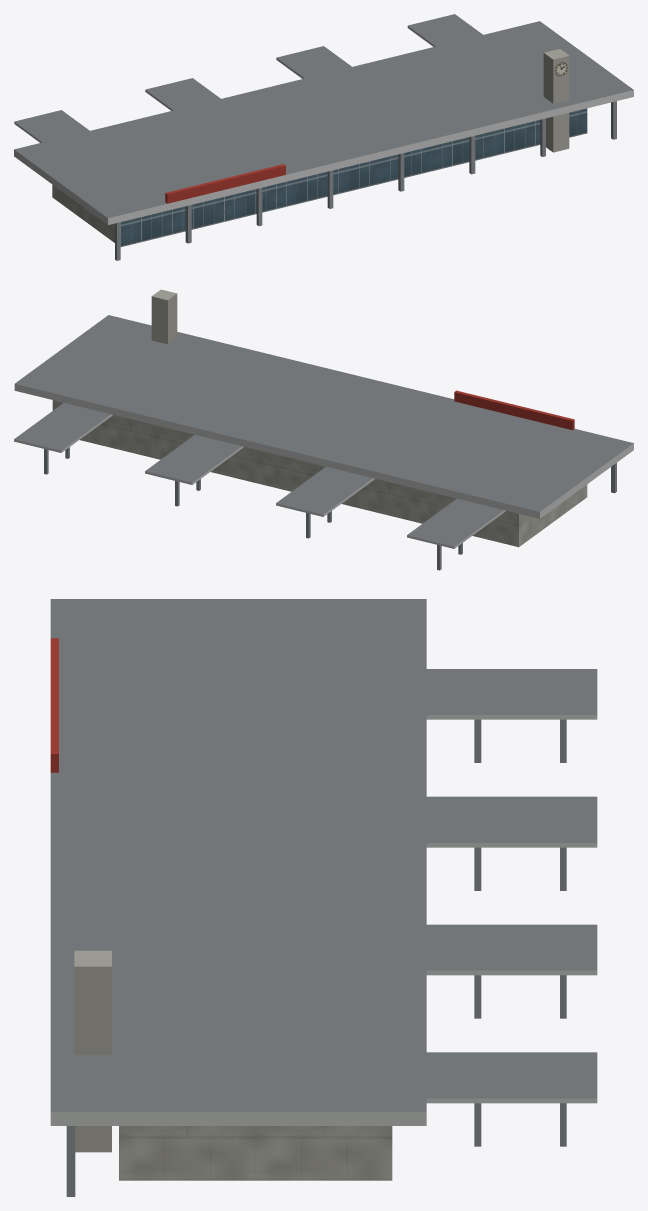
The model's file is caltrain_station.glb.
The picture shows the model from 3 angles, top to bottom: view 1: azimuth 30°, elevation 25°; view 2: azimuth 150°, elevation 25°; view 3: azimuth 270°, elevation 25°; orthographic projection. The views are drawn at different scales.
Visible parts, largest first — view 1: caltrain_station; view 2: caltrain_station; view 3: caltrain_station.
Part boxes in pixels (x1=…): caltrain_station: x1=14, y1=14, x2=633, y2=260; caltrain_station: x1=14, y1=289, x2=633, y2=570; caltrain_station: x1=50, y1=599, x2=597, y2=1196.
Bounding box in the file's own units: 71 × 12 × 32.
2 materials, 2 textured.
